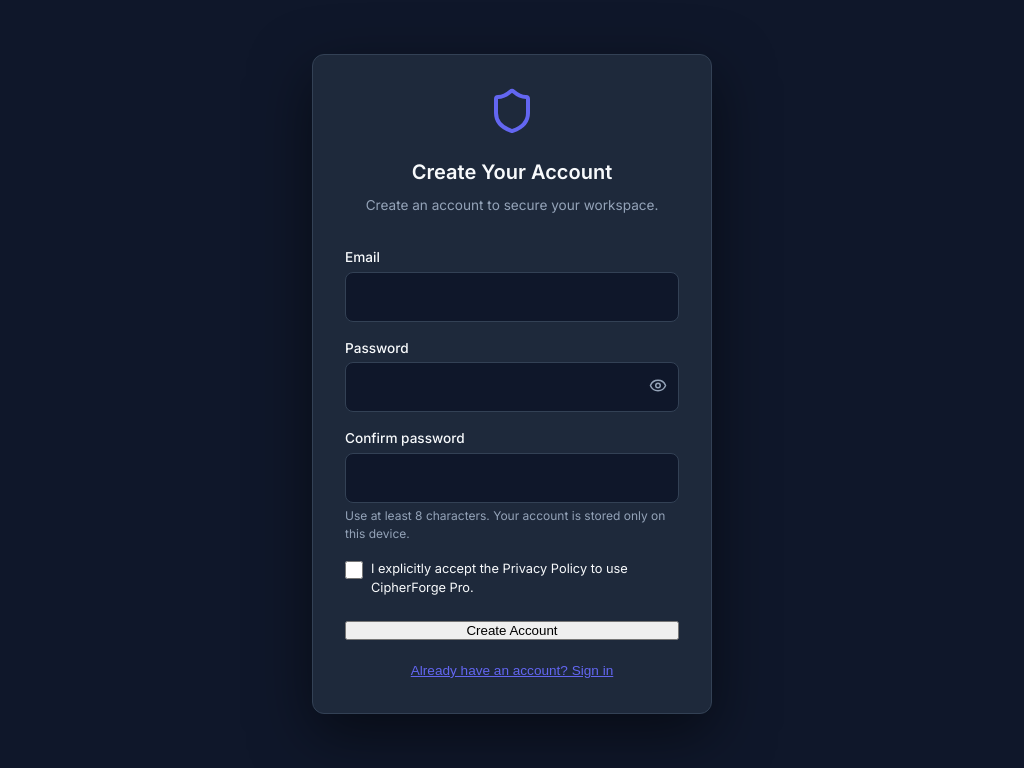
LoginScreen account creation › allows switching between create and sign-in modes
Expected: the password field labelled "Confirm password" is shown, [345,453,679,503]
Step 1. Click the button "Already have an account? Sign in" → [512, 670], box [411,663,613,678]
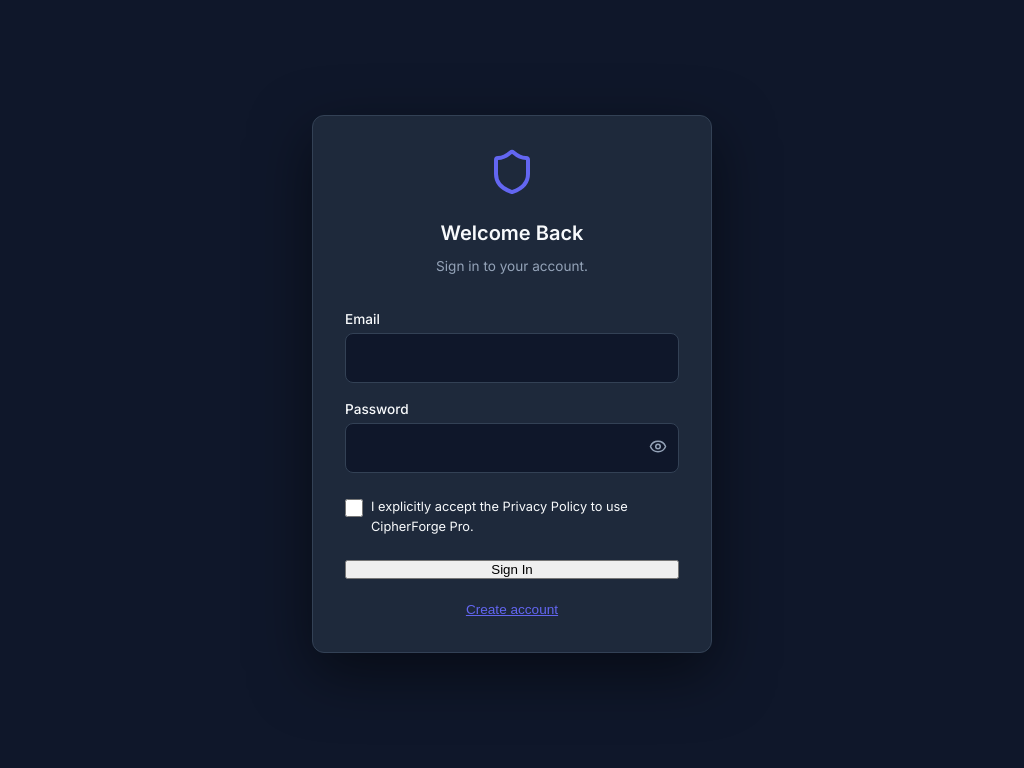
Expected: the heading "Welcome Back" is shown, [441,221,584,245]
Expected: the label labelled "Confirm password" is gone
Step 2. Click the button "Create account" → [512, 609], box [466,602,558,617]
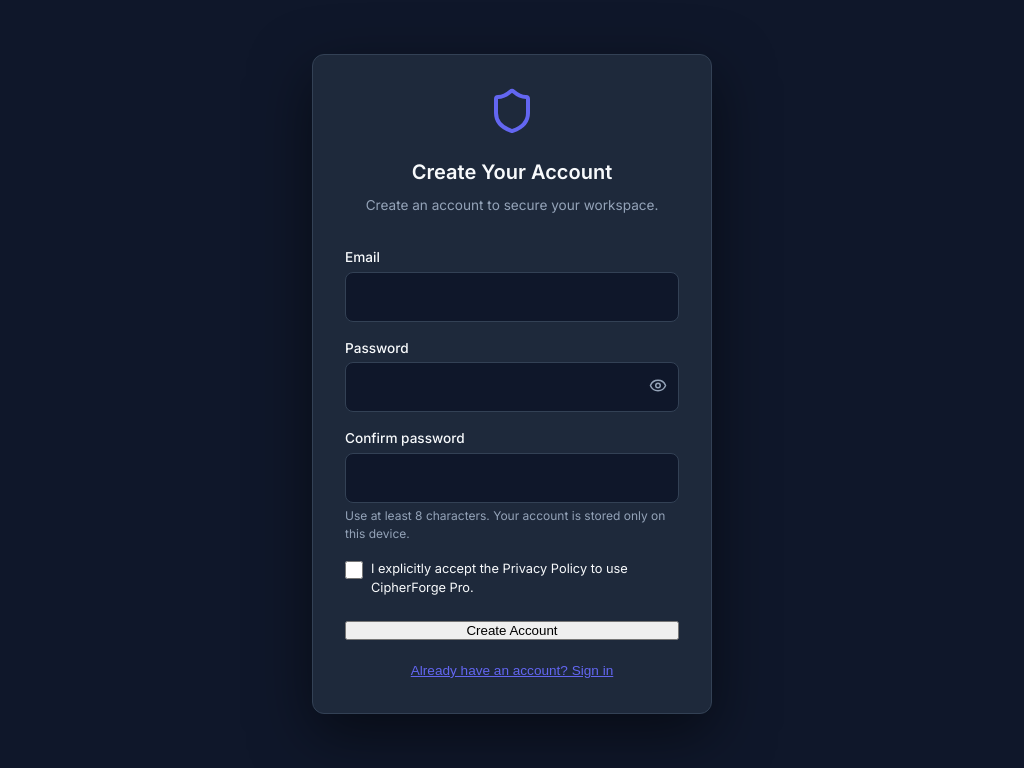
Expected: the password field labelled "Confirm password" is shown, [345,453,679,503]
